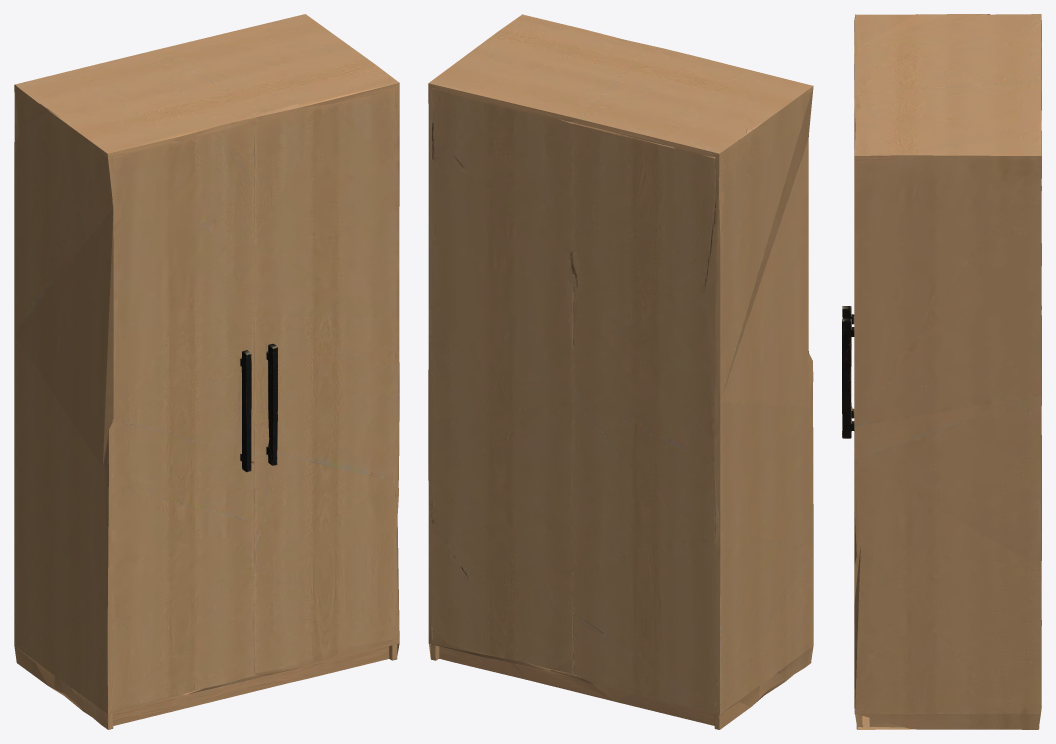
The model's file is wardrobe200.glb.
The picture shows the model from 3 angles, left to right: view 1: azimuth 30°, elevation 25°; view 2: azimuth 150°, elevation 25°; view 3: azimuth 270°, elevation 25°; orthographic projection.
Visible parts, largest first — view 1: wardrobe200; view 2: wardrobe200; view 3: wardrobe200.
Boxes of the visible parts, box(x1,y1,x2,y2) form: wardrobe200: box(14, 14, 399, 729); wardrobe200: box(428, 14, 813, 729); wardrobe200: box(842, 14, 1041, 729).
Size of the model in its own units: 1.27 by 2.4 by 0.7553.
1 material, 1 textured.
